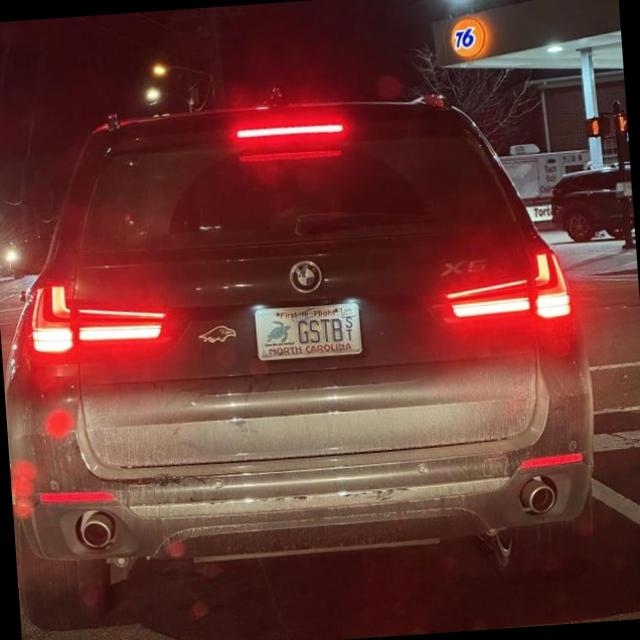LicensePlate: (253, 302, 363, 362)
